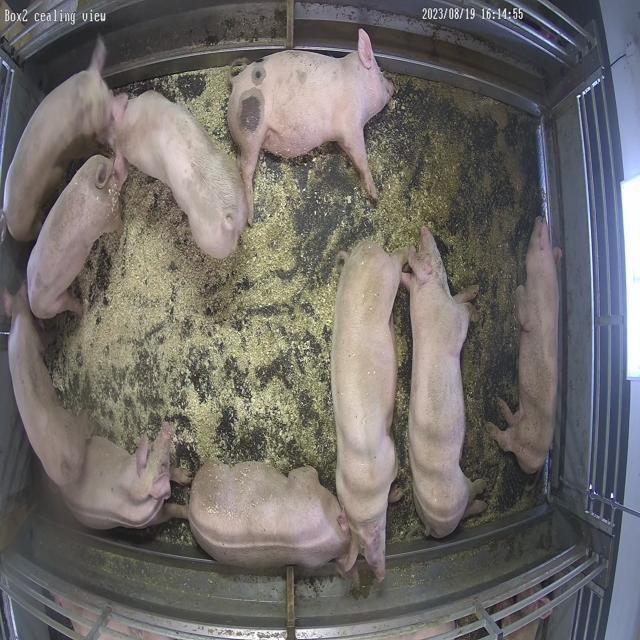Dirt: (405, 81, 544, 420)
Pig: (228, 29, 395, 222), (111, 90, 247, 258), (3, 37, 113, 240), (187, 463, 350, 570), (7, 286, 92, 488), (26, 155, 121, 319), (60, 425, 184, 530)
